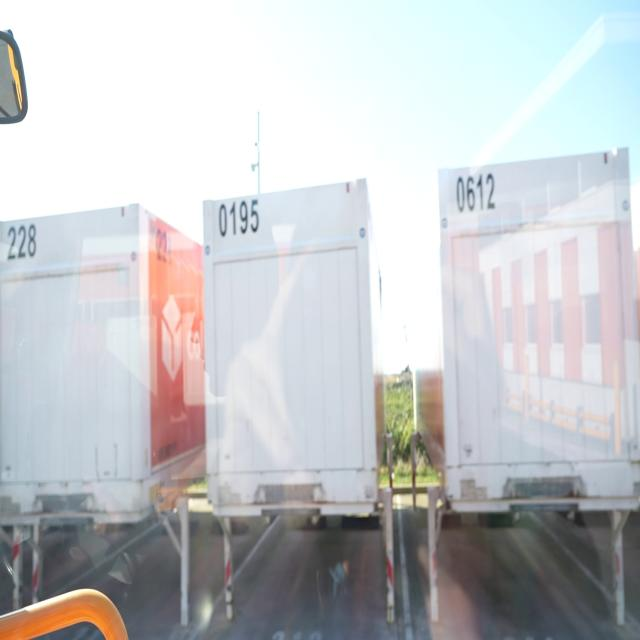Code: (452, 164, 504, 219), (216, 194, 266, 244), (5, 218, 43, 268)
